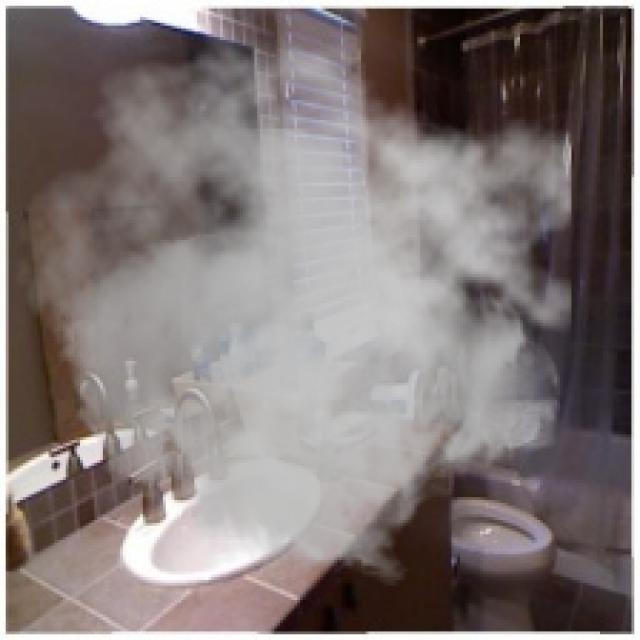smoke: (14, 23, 572, 588)
